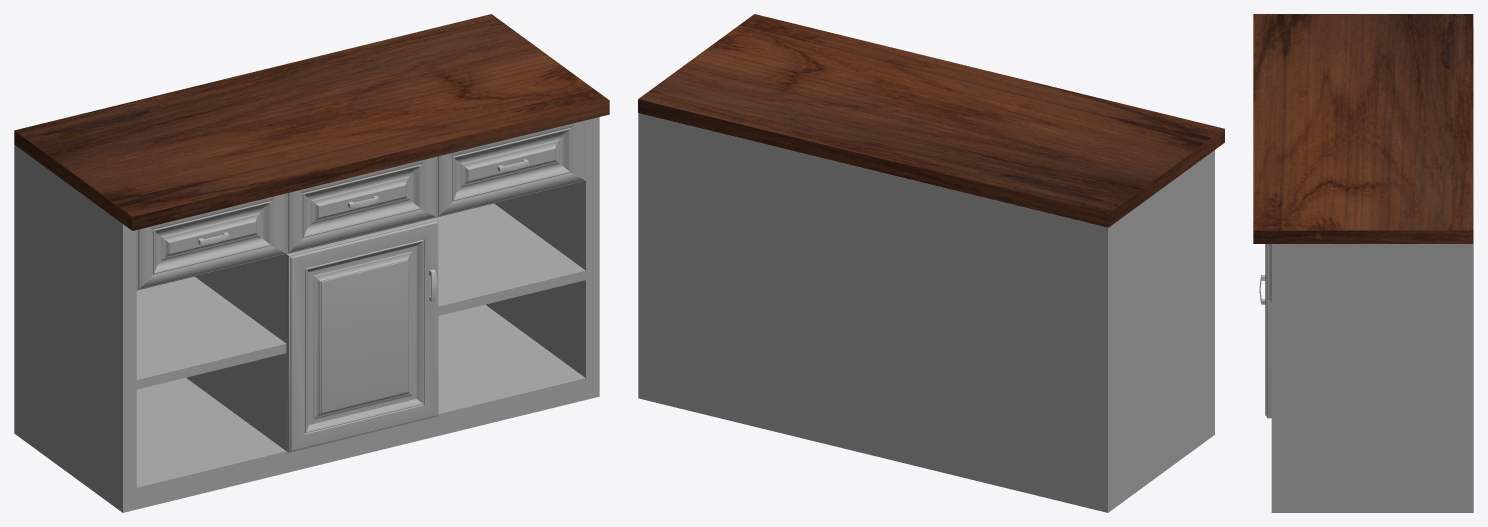
Rendered from visual_LowPoly_19_CounterWithStorage.dae.
The picture shows the model from 3 angles, left to right: view 1: azimuth 30°, elevation 25°; view 2: azimuth 150°, elevation 25°; view 3: azimuth 270°, elevation 25°; orthographic projection. The views are drawn at different scales.
Parts seen in each view (by area): view 1: SM_counter_storage; view 2: SM_counter_storage; view 3: SM_counter_storage.
Boxes of the visible parts, <box> form: SM_counter_storage: <box>14,14,609,512</box>; SM_counter_storage: <box>638,14,1224,512</box>; SM_counter_storage: <box>1253,14,1473,512</box>.
Size of the model in its own units: 142 by 61.07 by 86.36.
1 material, 1 textured.
